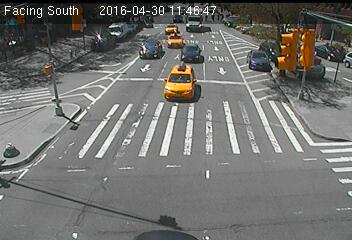neg: (236, 20, 262, 55), (224, 102, 245, 129), (15, 90, 34, 116), (119, 114, 137, 138), (297, 76, 315, 99), (273, 35, 289, 56), (37, 143, 53, 164), (159, 32, 175, 53), (183, 80, 199, 100), (124, 46, 139, 66), (164, 137, 177, 155), (202, 32, 215, 49), (203, 5, 216, 21), (51, 58, 63, 75), (70, 179, 82, 195), (260, 205, 272, 221), (176, 198, 188, 213), (203, 145, 213, 159), (317, 9, 324, 19)
